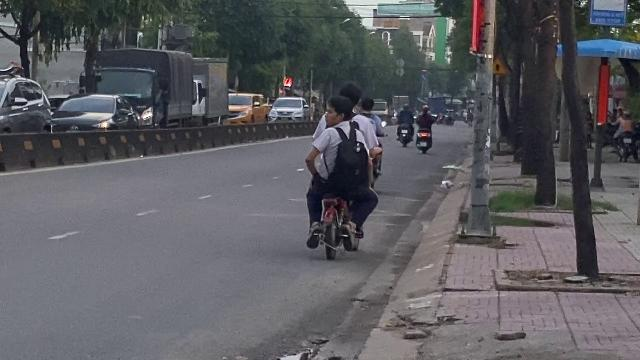motorcyclist: (301, 85, 384, 262)
nohelmet: (324, 95, 352, 125), (338, 85, 362, 105)
